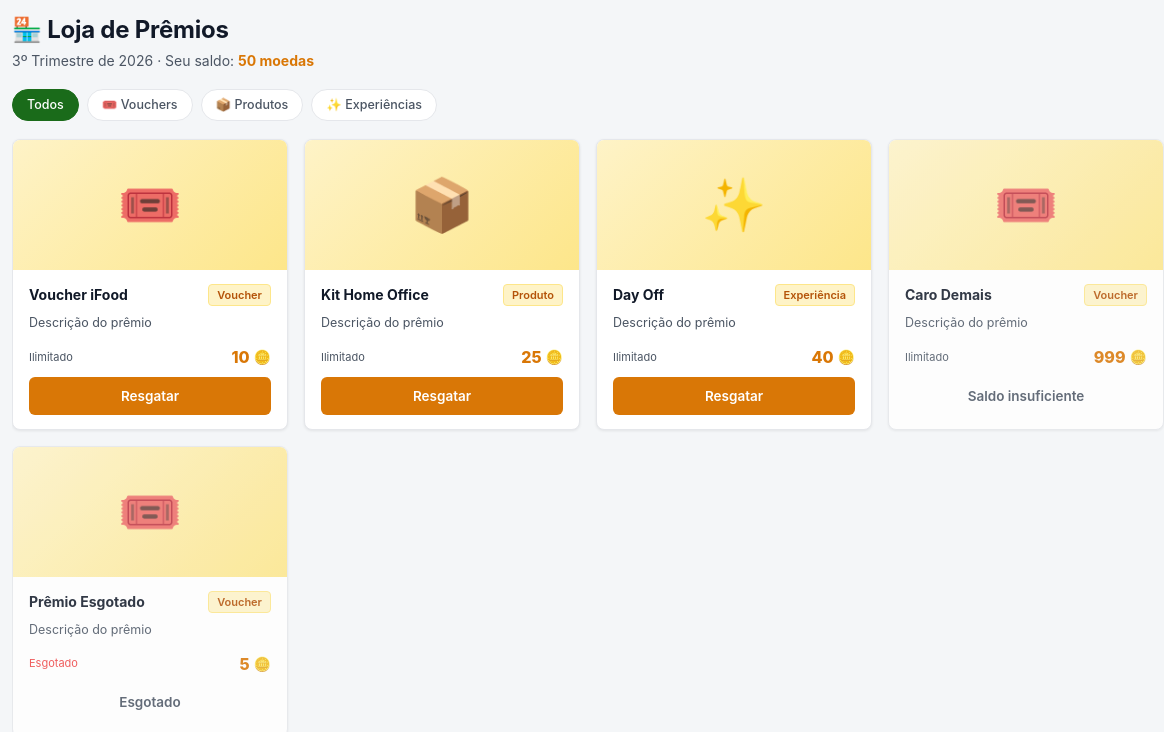
Test case: LojaPage — filtros por categoria › filtro Vouchers exibe apenas vouchers
Click the button "🎟️ Vouchers" at (140, 105), box 87,89 -> 193,121
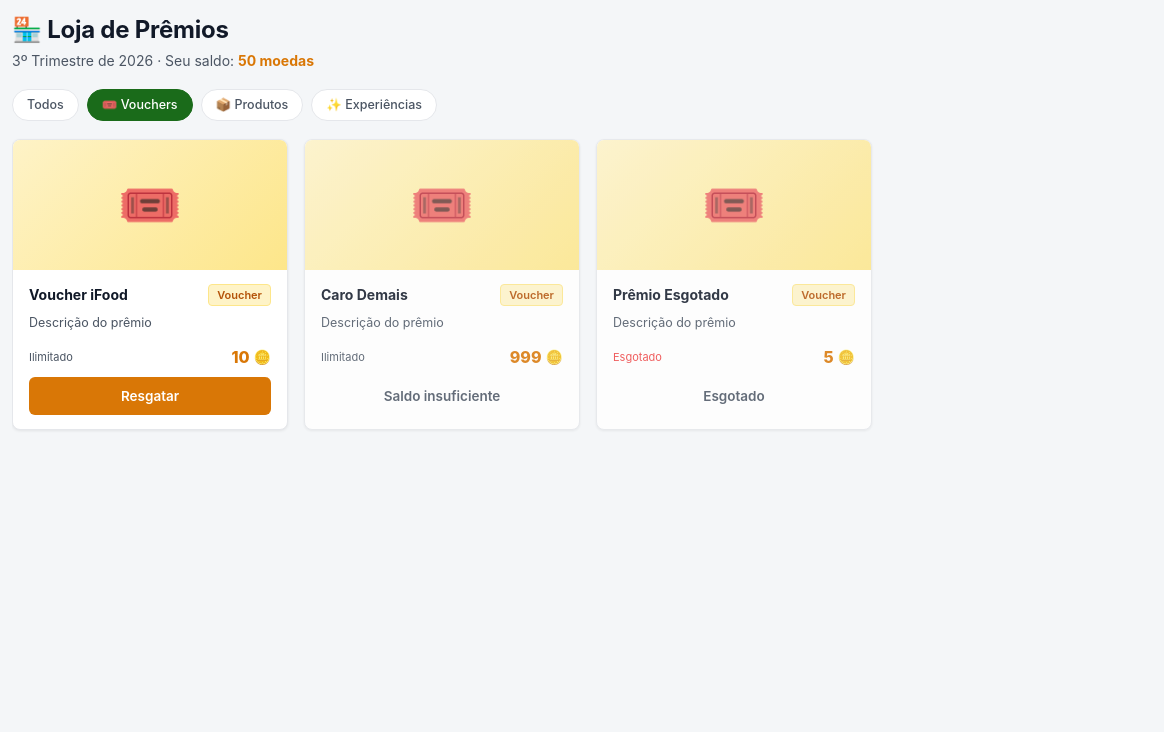
Expected: the text "Voucher iFood" is shown, 29,284 -> 128,305
Result: the text "Kit Home Office" is gone
Result: the text "Day Off" is gone
